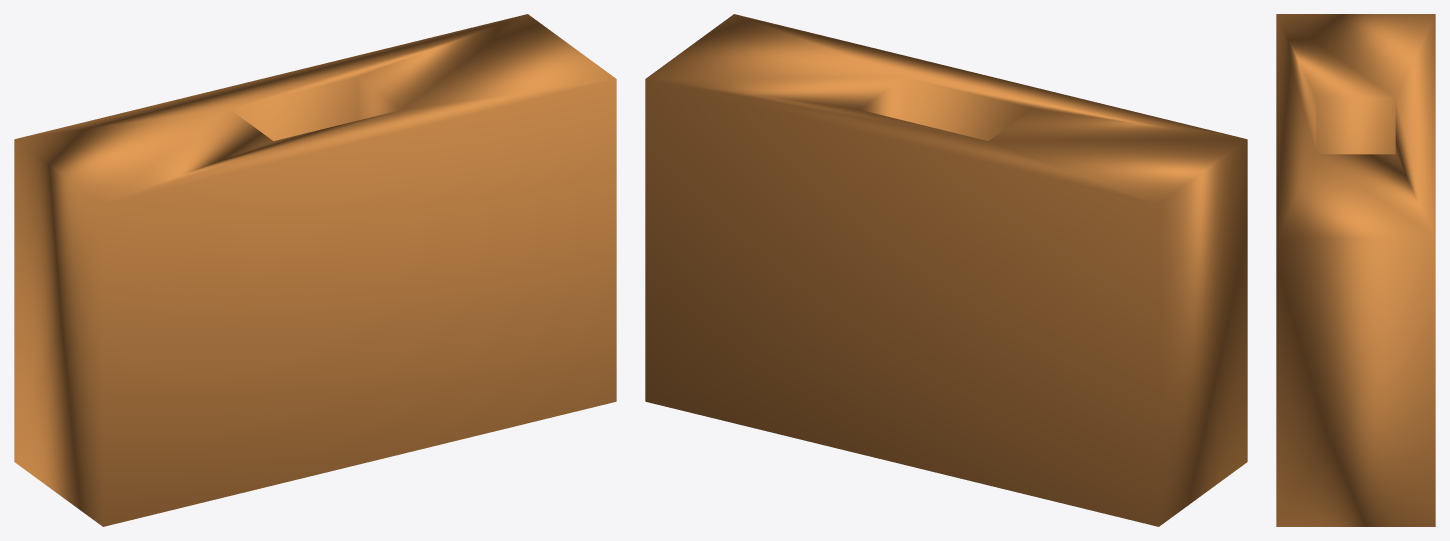
Rendered from expected.gltf.
3 renders of one model, left to right at view 1: azimuth 30°, elevation 25°; view 2: azimuth 150°, elevation 25°; view 3: azimuth 270°, elevation 25°, orthographic. The views are drawn at different scales.
Bounding box in the file's own units: 40 × 24 × 12.
